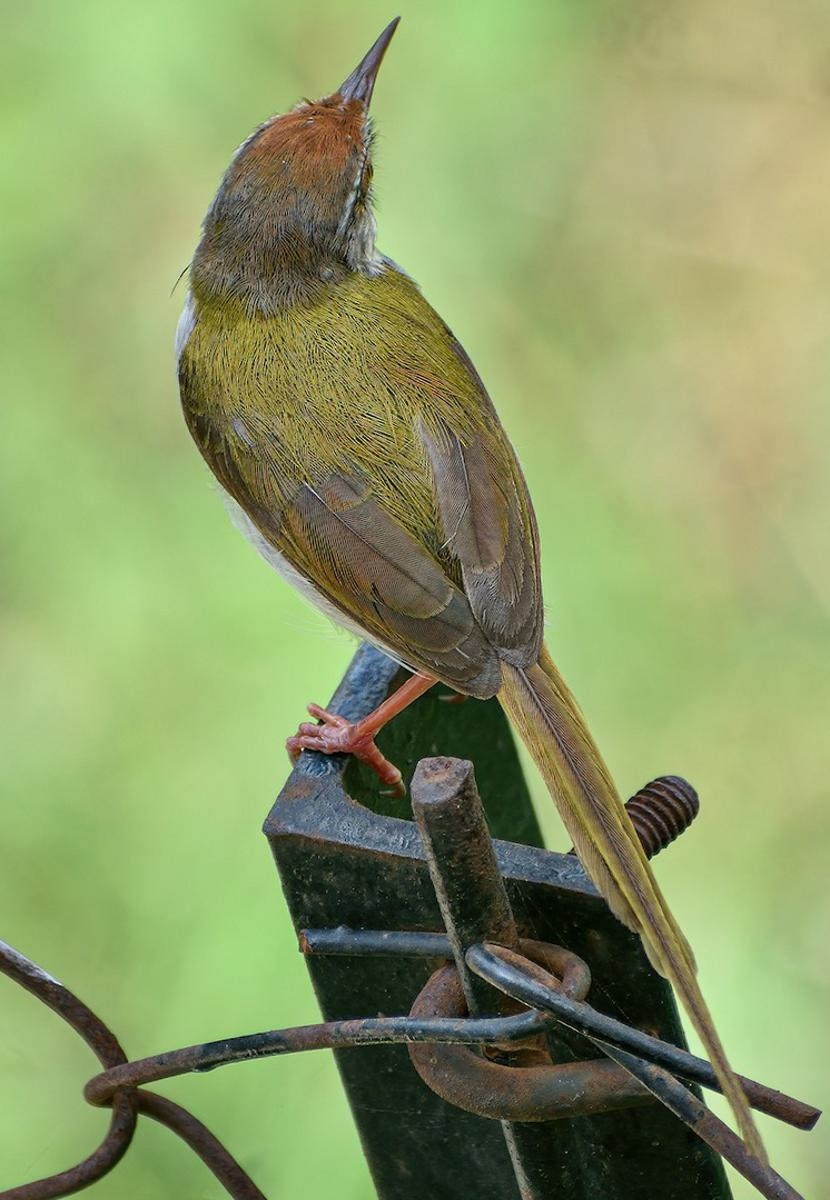tailorbird: (215, 101, 632, 863)
